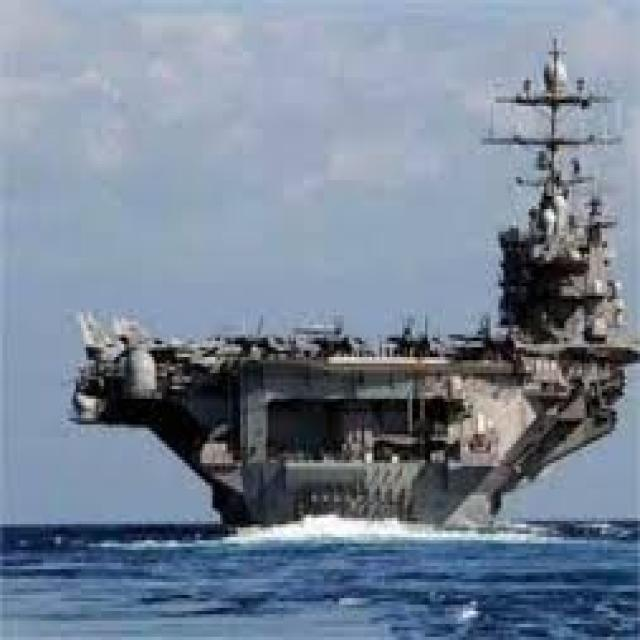navalvessels: (79, 70, 619, 554)
